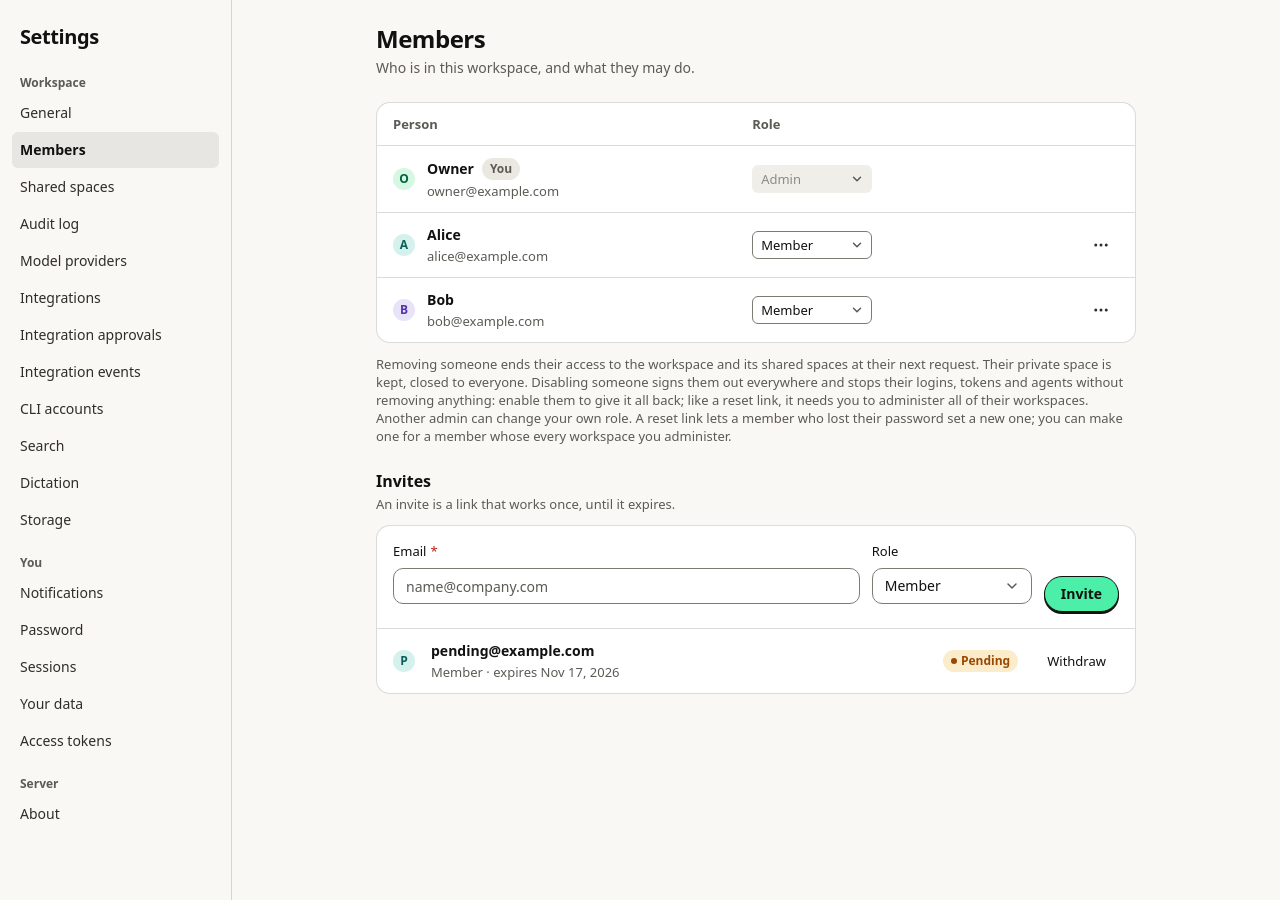
disabling a member › Cancel sends nothing
Expected: the text "alice@example.com" is shown, [427, 247, 548, 265]
Click the button named "More actions for Alice" at x=1101, y=245, box [1083, 227, 1119, 263]
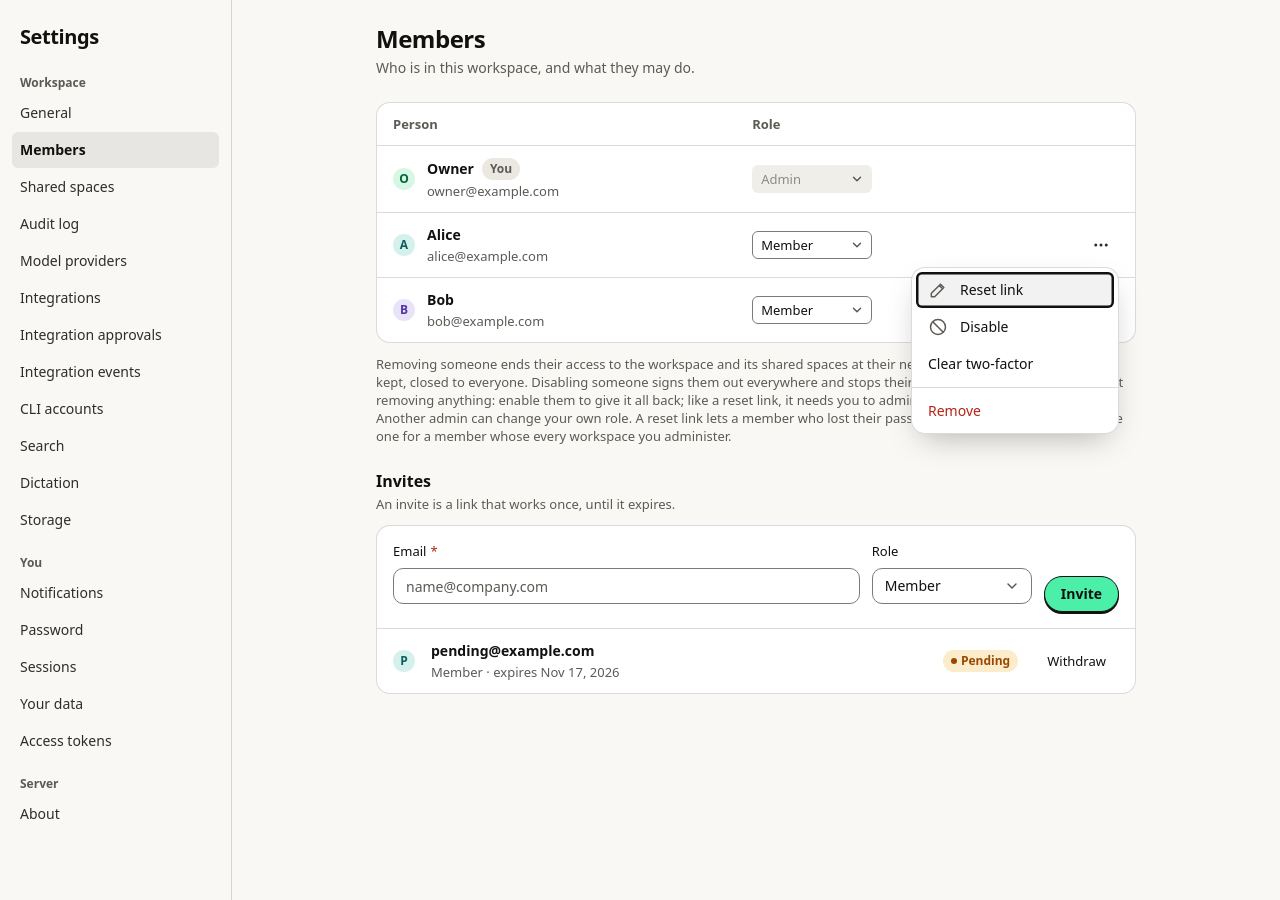
Click the menu item "Disable" at x=1015, y=327, box [916, 309, 1114, 345]
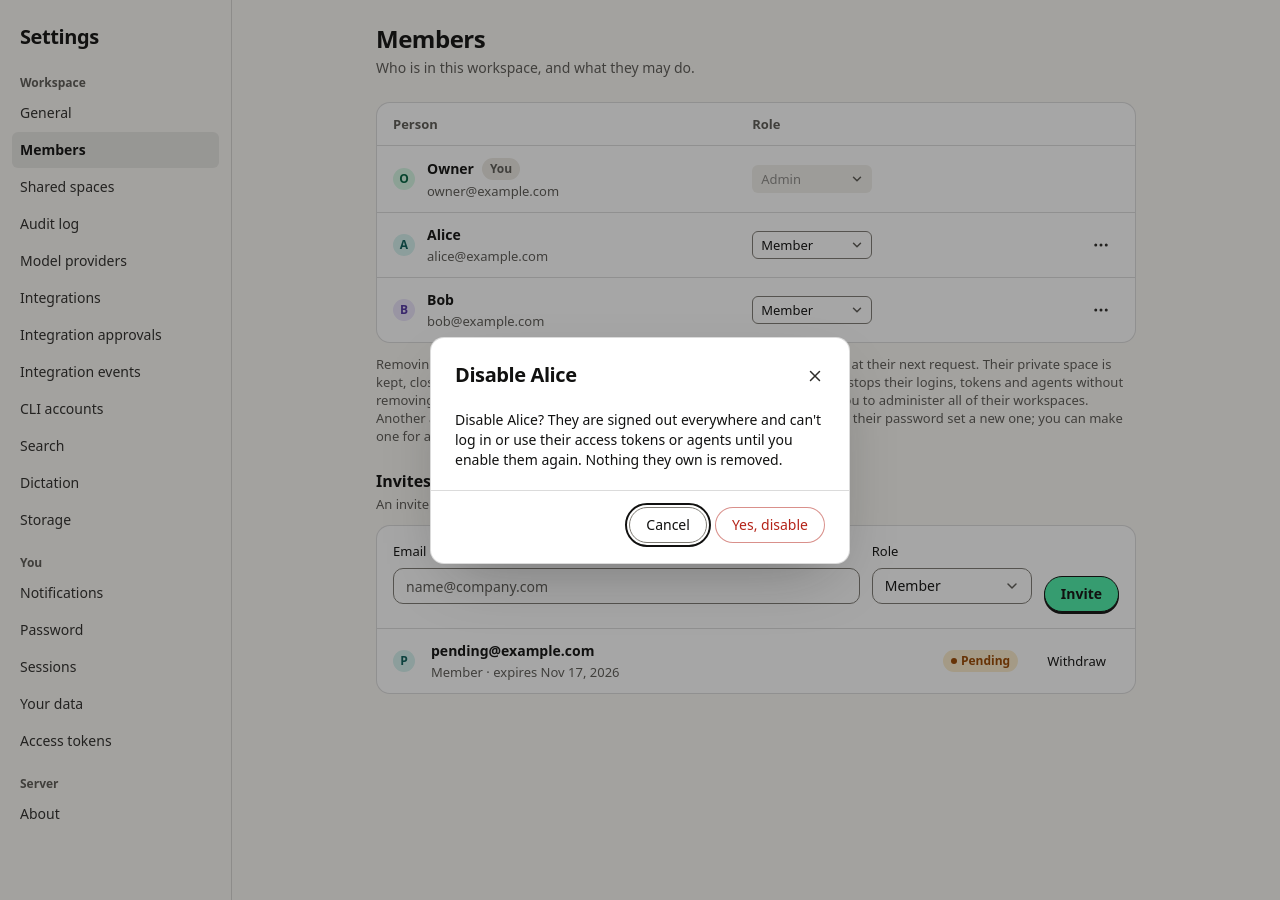
Result: the dialog is shown at [430, 336, 850, 564]
Click the button "Cancel" at x=668, y=524, box [629, 506, 707, 542]
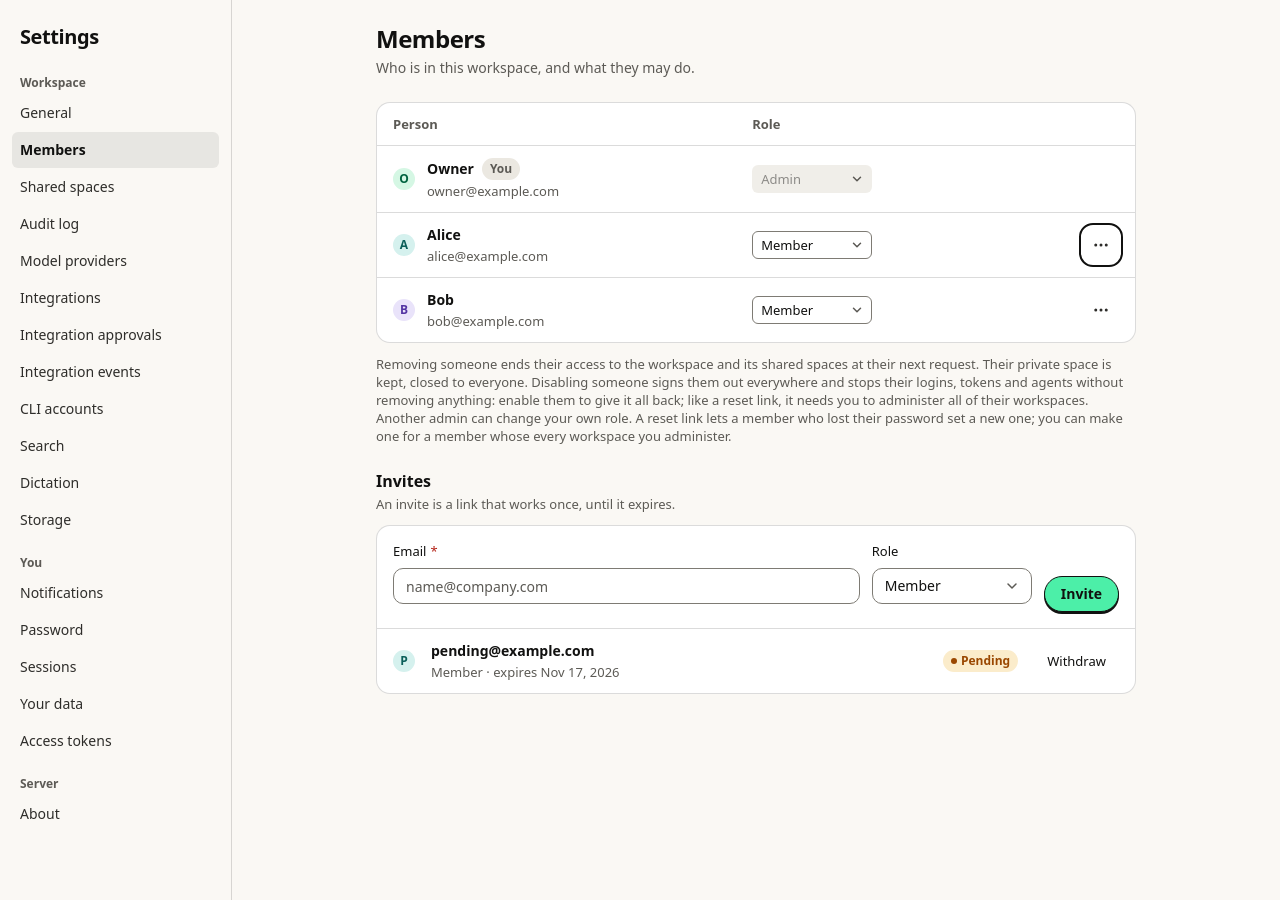
Result: the dialog is gone
